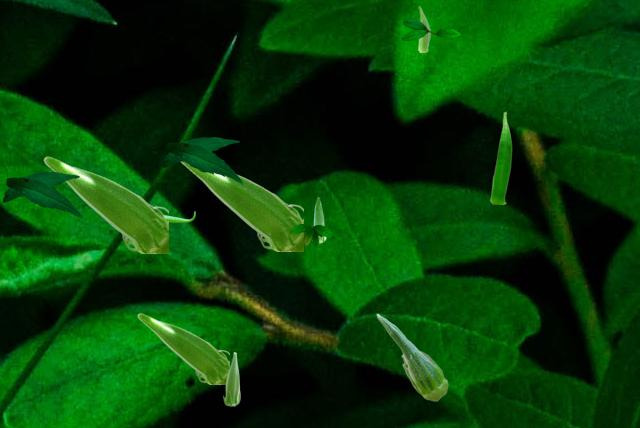okra: (43, 156, 167, 252), (181, 162, 302, 250), (137, 313, 228, 383), (376, 313, 447, 400), (490, 111, 511, 203), (223, 352, 239, 405), (313, 197, 325, 242), (418, 6, 429, 51), (165, 211, 194, 223)
